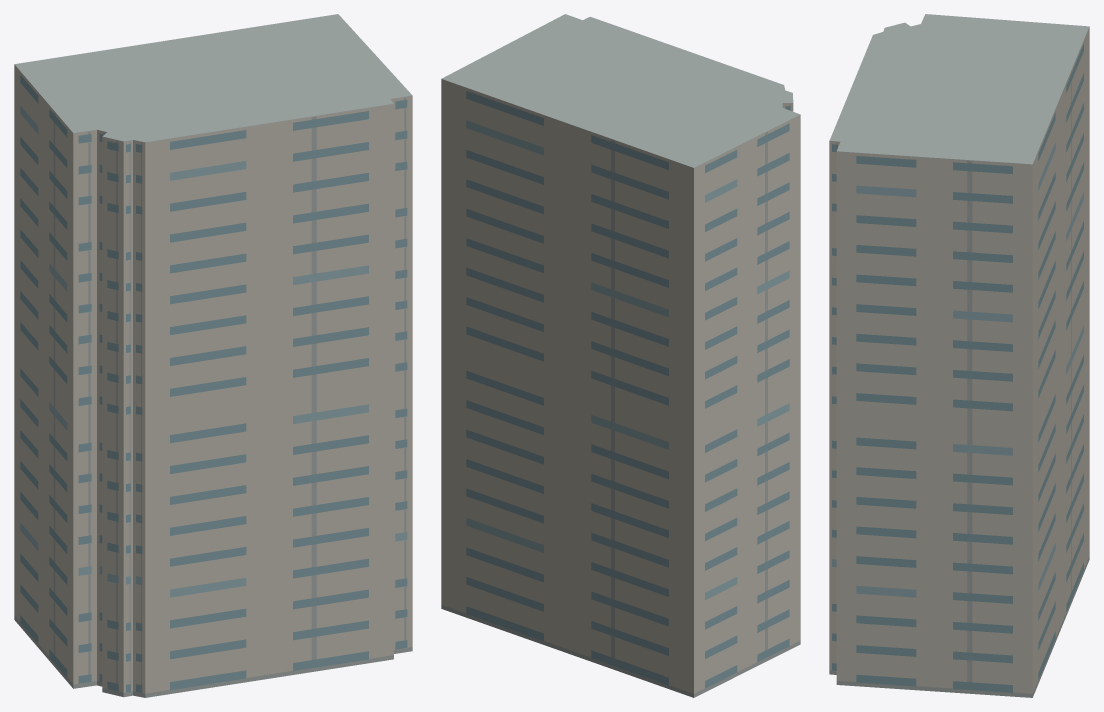
File: survey-upis-32979325.glb
The picture shows the model from 3 angles, left to right: view 1: azimuth 30°, elevation 25°; view 2: azimuth 150°, elevation 25°; view 3: azimuth 270°, elevation 25°; orthographic projection. The views are drawn at different scales.
Parts seen in each view (by area): view 1: survey-upis-32979325.tmp; view 2: survey-upis-32979325.tmp; view 3: survey-upis-32979325.tmp.
Part boxes in pixels (x1,y1,x2,y2): survey-upis-32979325.tmp: (14, 14, 412, 697); survey-upis-32979325.tmp: (441, 14, 800, 697); survey-upis-32979325.tmp: (829, 14, 1089, 697).
Bounding box in the file's own units: 82.79 × 137 × 60.51.
